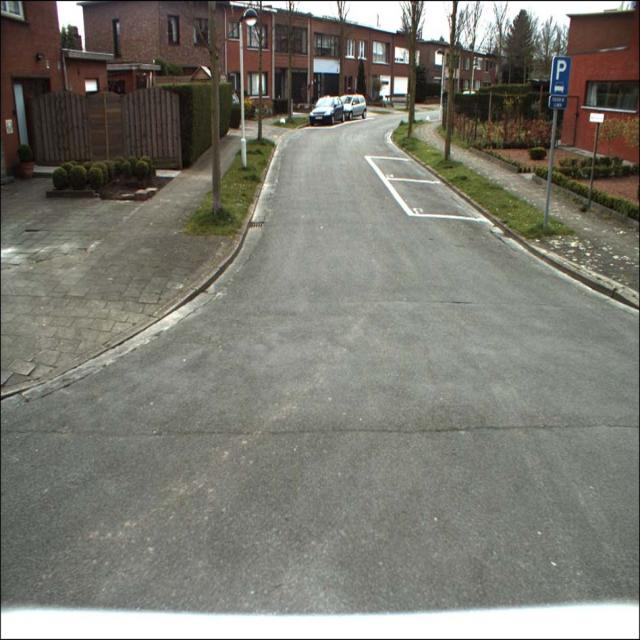park: (550, 56, 571, 84)
